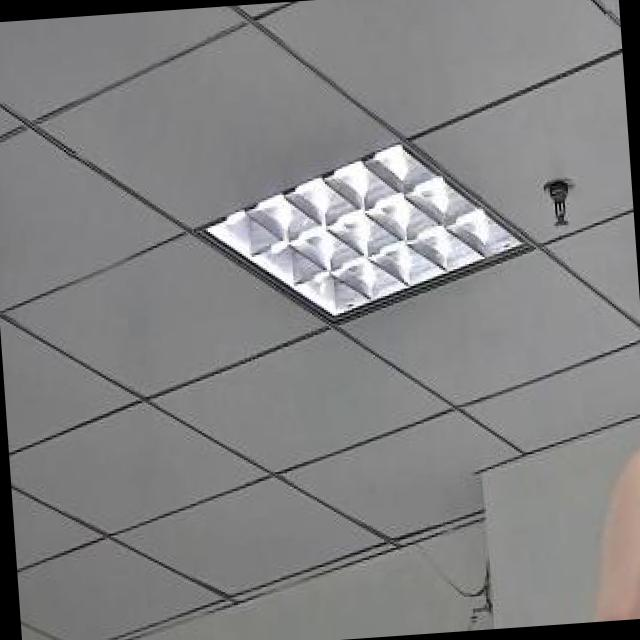Guns: (599, 473, 640, 620)
